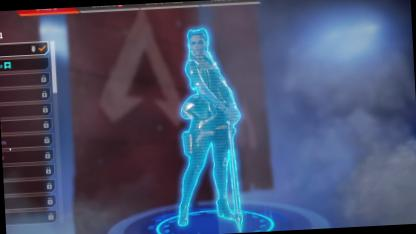Target: (172, 18, 243, 200)
